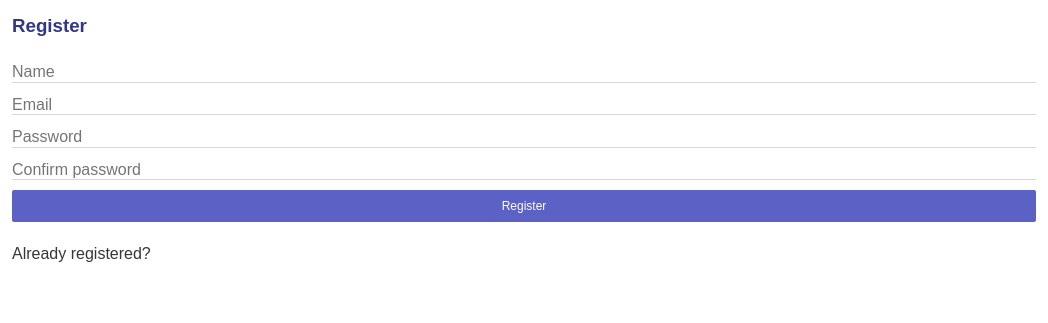
Test case: Test on <RegisterScreen /> › should display a name error
In the field with placeholder "Name": [524, 73] box [12,63,1036,83], type "testing new user"
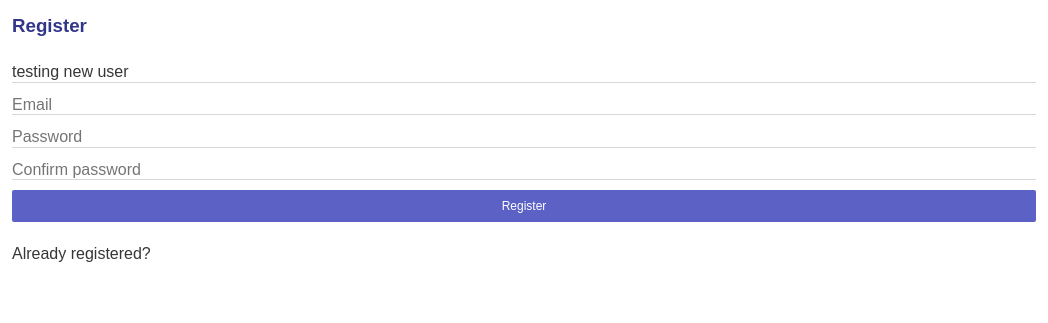
In the field with placeholder "Email": [524, 105] box [12,95,1036,115], type "testing_new_user@gmail.com"
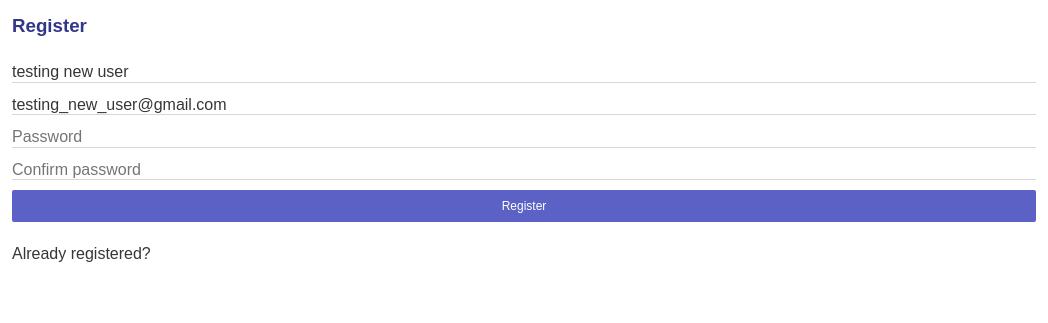
In the password field with placeholder "Password": [524, 138] box [12,128,1036,148], type "123456"
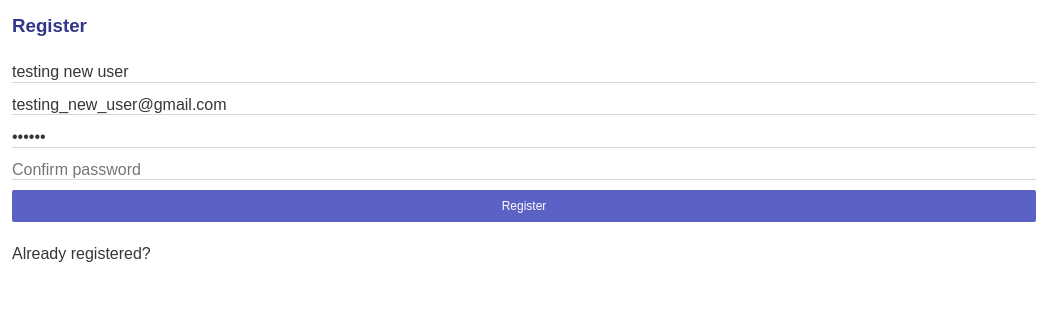
In the password field with placeholder "Confirm password": [524, 170] box [12,160,1036,180], type "123456"
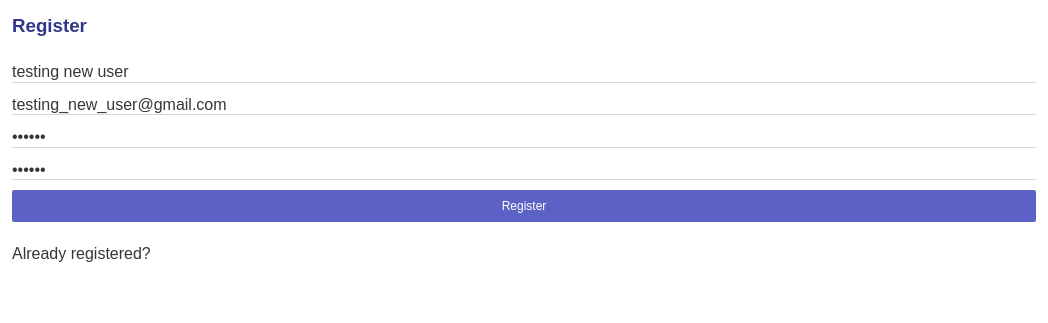
Clear the 1st field with placeholder "Name": [524, 73] box [12,63,1036,83]
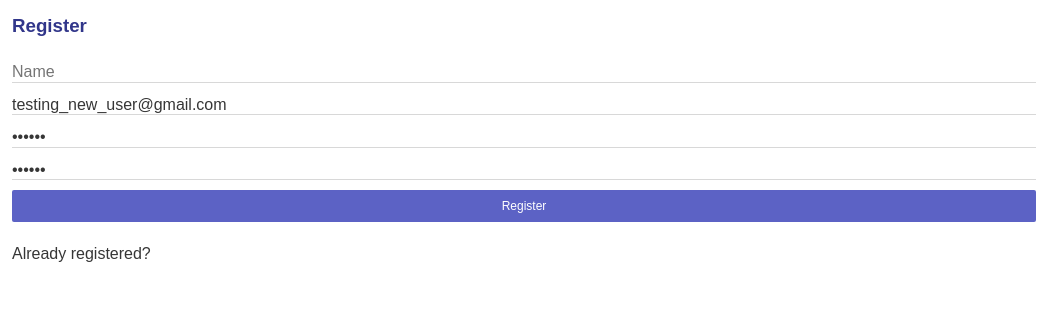
Click the button: [524, 206] box [12,190,1036,222]
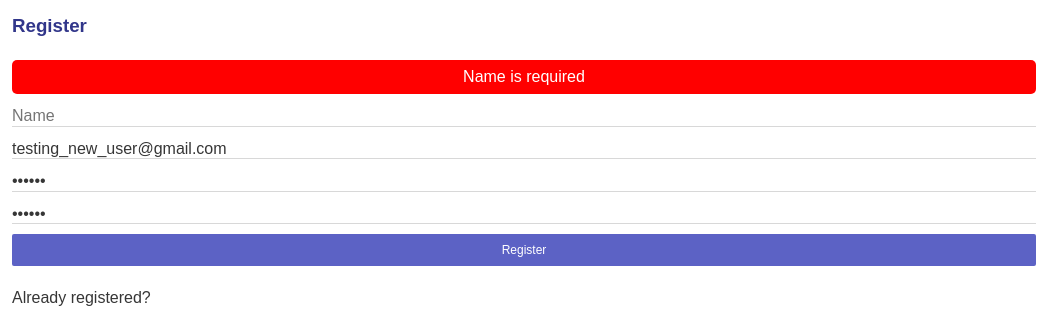
Check: the text "Name is required" is shown, box [12,60,1036,94]
